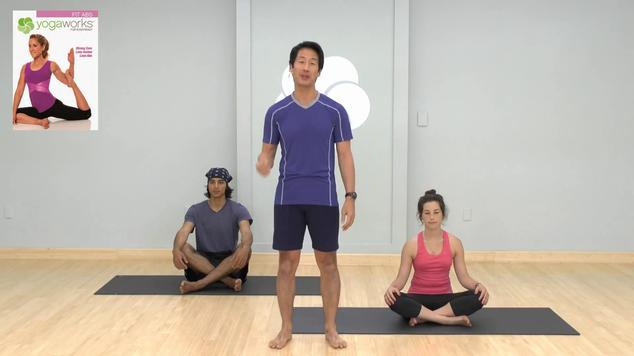crouch: (174, 152, 251, 325), (396, 193, 477, 343)
sit: (4, 20, 92, 140)
stay: (244, 34, 366, 330)
